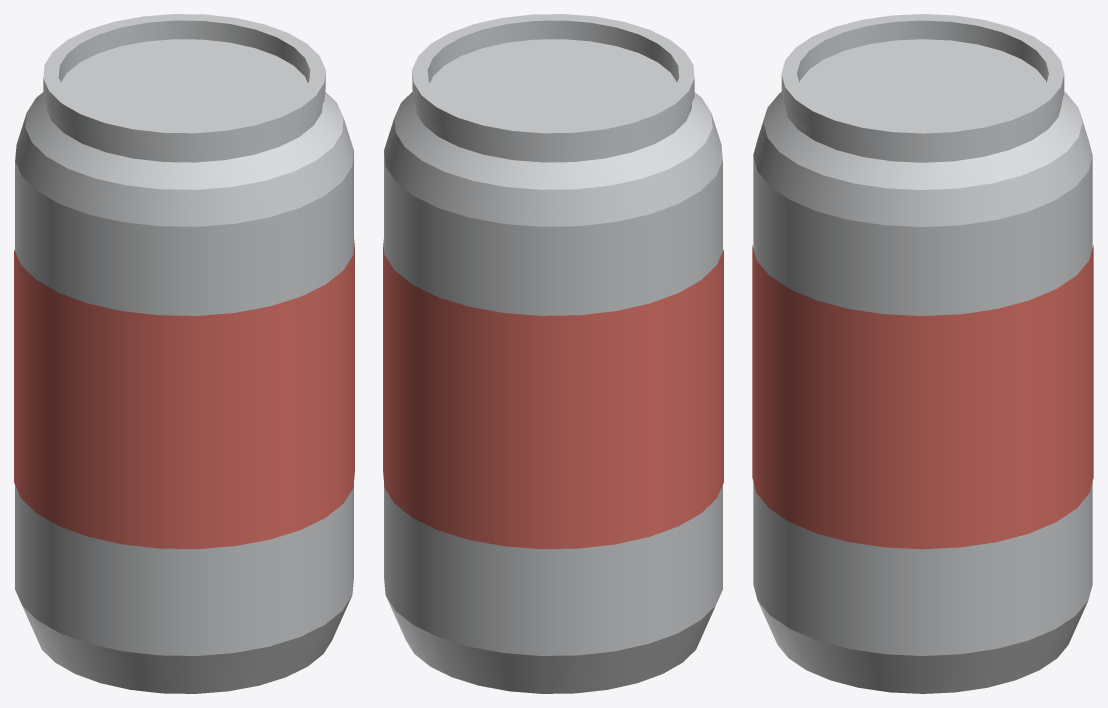
The model's file is lata_aluminio.glb.
3 views of the same model, side by side, from view 1: azimuth 30°, elevation 25°; view 2: azimuth 150°, elevation 25°; view 3: azimuth 270°, elevation 25° (orthographic).
Parts seen in each view (by area): view 1: lata_cuerpo, lata_banda, lata_borde; view 2: lata_cuerpo, lata_banda, lata_borde; view 3: lata_cuerpo, lata_banda, lata_borde.
Part boxes in pixels (box(x1,y1,x2,y2)): lata_cuerpo: box(15, 39, 353, 693); lata_banda: box(14, 239, 354, 548); lata_borde: box(43, 14, 325, 151); lata_cuerpo: box(384, 39, 722, 693); lata_banda: box(383, 239, 723, 548); lata_borde: box(412, 14, 694, 151); lata_cuerpo: box(753, 39, 1092, 693); lata_banda: box(752, 245, 1093, 549); lata_borde: box(781, 14, 1064, 152).
Size of the model in its own units: 0.0664 by 0.1215 by 0.0664.
